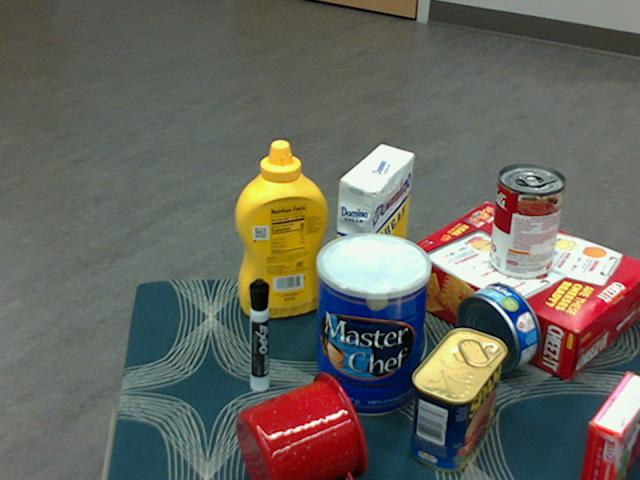cracker_box: (399, 204, 639, 377)
gelatin_box: (578, 371, 639, 479)
large_marker: (247, 277, 268, 392)
master_chef_can: (315, 233, 432, 418)
mug: (235, 371, 368, 479)
mustard_bottle: (234, 140, 327, 318)
potted_meat_can: (410, 328, 507, 472)
sugar_box: (331, 145, 415, 334)
tomato_soup_can: (489, 165, 565, 281)
tuna_fish_can: (456, 282, 542, 373)
